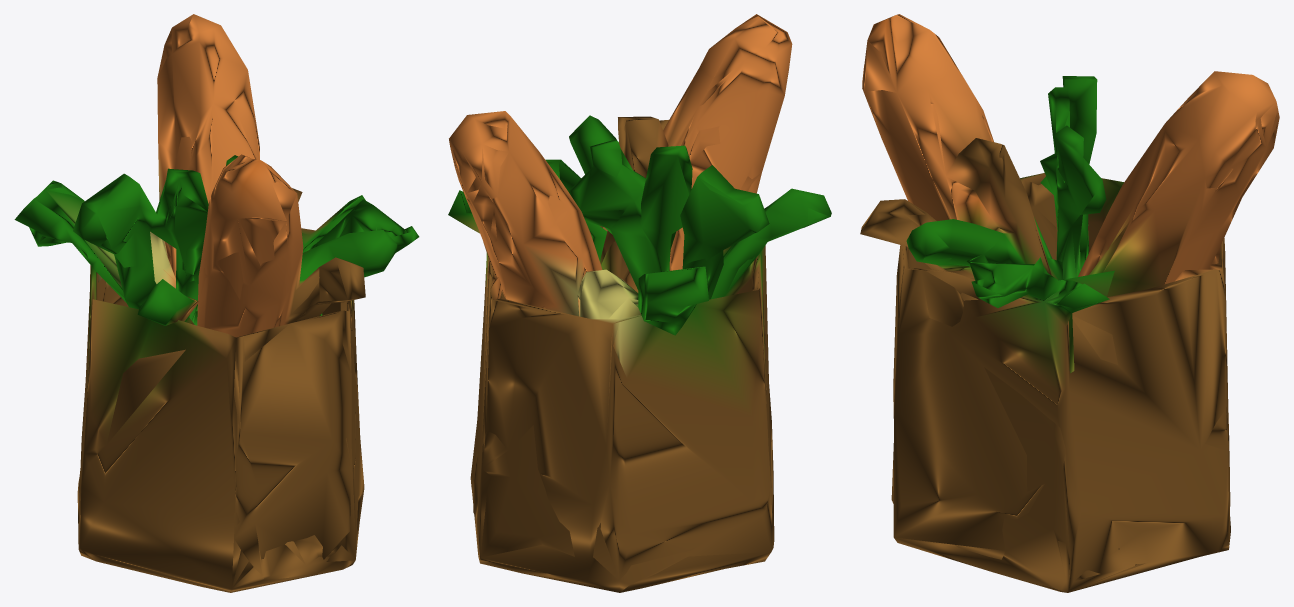
Rendered from gen3d-grocery-bag-lod0.glb.
3 views of the same model, side by side, from view 1: azimuth 30°, elevation 25°; view 2: azimuth 150°, elevation 25°; view 3: azimuth 270°, elevation 25° (orthographic). The views are drawn at different scales.
Parts seen in each view (by area): view 1: part_0; view 2: part_0; view 3: part_0.
Boxes of the visible parts, x1=… form: part_0: x1=14, y1=14, x2=419, y2=592; part_0: x1=448, y1=14, x2=831, y2=592; part_0: x1=860, y1=14, x2=1279, y2=592.
Bounding box in the file's own units: 0.7163 × 0.9938 × 0.7874.
